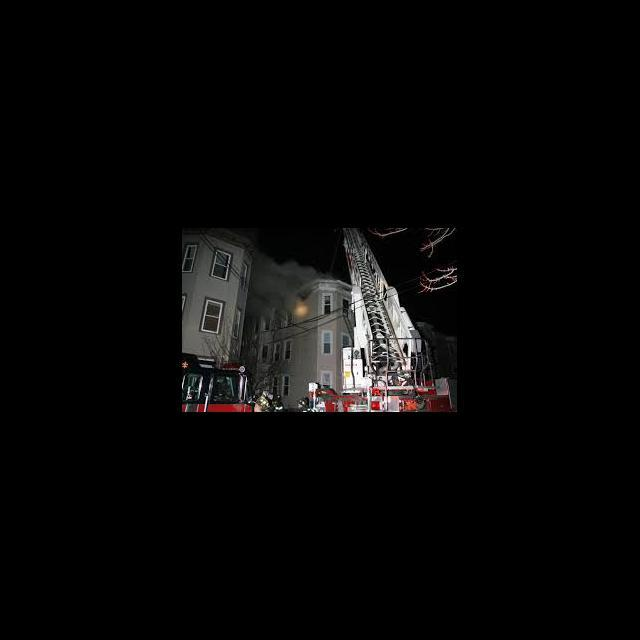Smoke: (248, 252, 314, 300)
